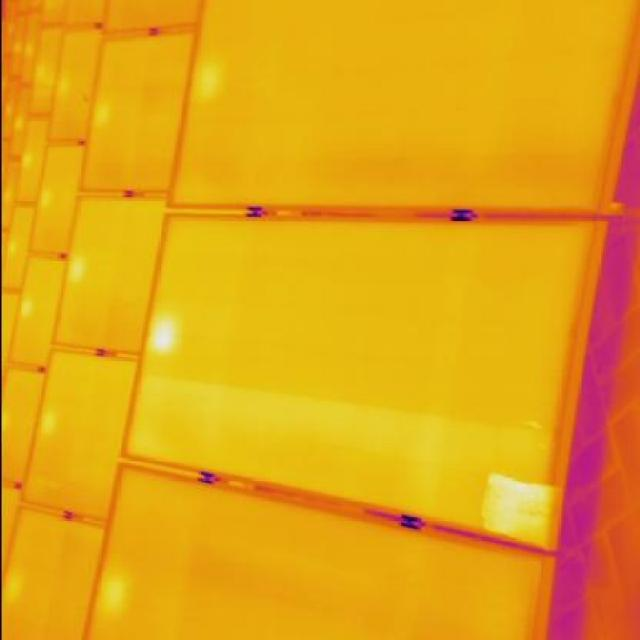hotspot: (480, 473, 558, 553), (144, 312, 184, 356)
